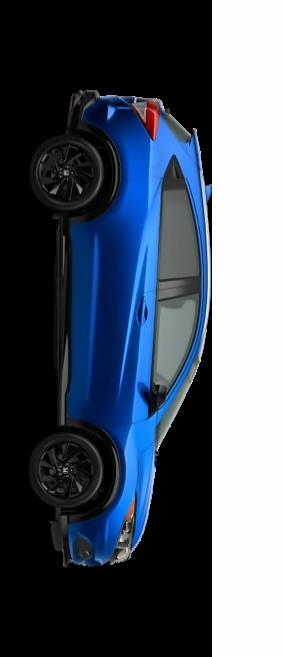Car hood: (129, 408, 158, 560)
Driver-s door - -F-R-: (55, 286, 207, 429)
Fender - -F-R-: (46, 395, 168, 523)
Fender - -R-R-: (61, 127, 207, 232)
Front bumper: (41, 508, 110, 574)
Headlight - -R-: (105, 492, 140, 571)
Passenger-s door - -R-R-: (47, 167, 220, 293)
Rear bumper: (55, 83, 118, 131)
Rear light - -R-: (121, 95, 164, 148)
Side bumper - -R-: (31, 213, 96, 439)
